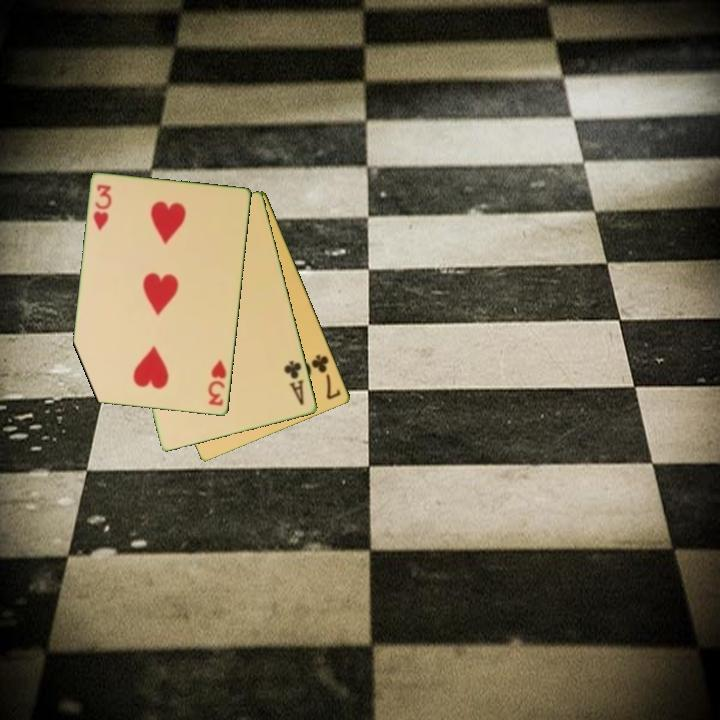3h: (90, 181, 115, 234), (205, 356, 229, 409)
7c: (308, 351, 344, 403)
Ac: (281, 357, 307, 408)
